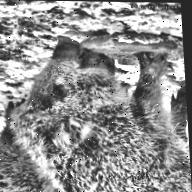boar: (0, 22, 191, 192)
